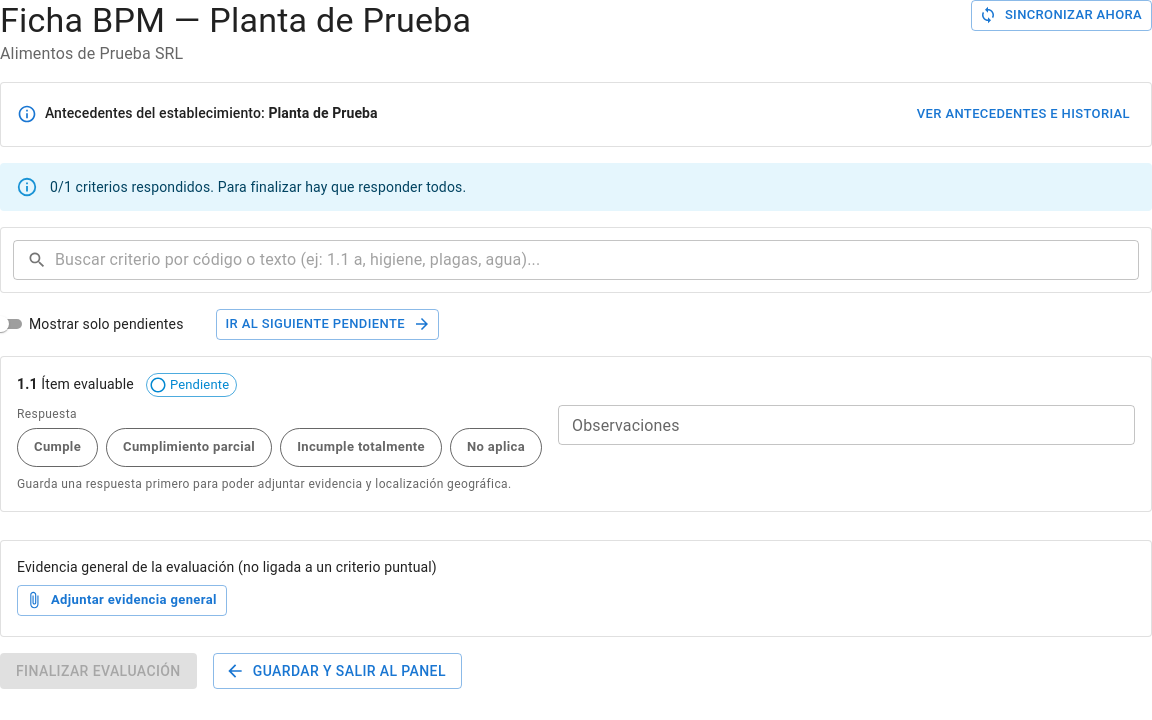
Test: EjecutarEvaluacion — en línea (comportamiento existente sin romper) › en evidencia general, muestra un solo botón principal y abre el modal integrado con opciones de archivos y GPS
Expected: the text "Evidencia general de la evaluación (no ligada a un criterio puntual)" is shown, [17, 559, 437, 575]
# Al hacer clic, abre el modal integrado
Click the button "Adjuntar evidencia general" at (122, 600), box [17, 585, 227, 616]
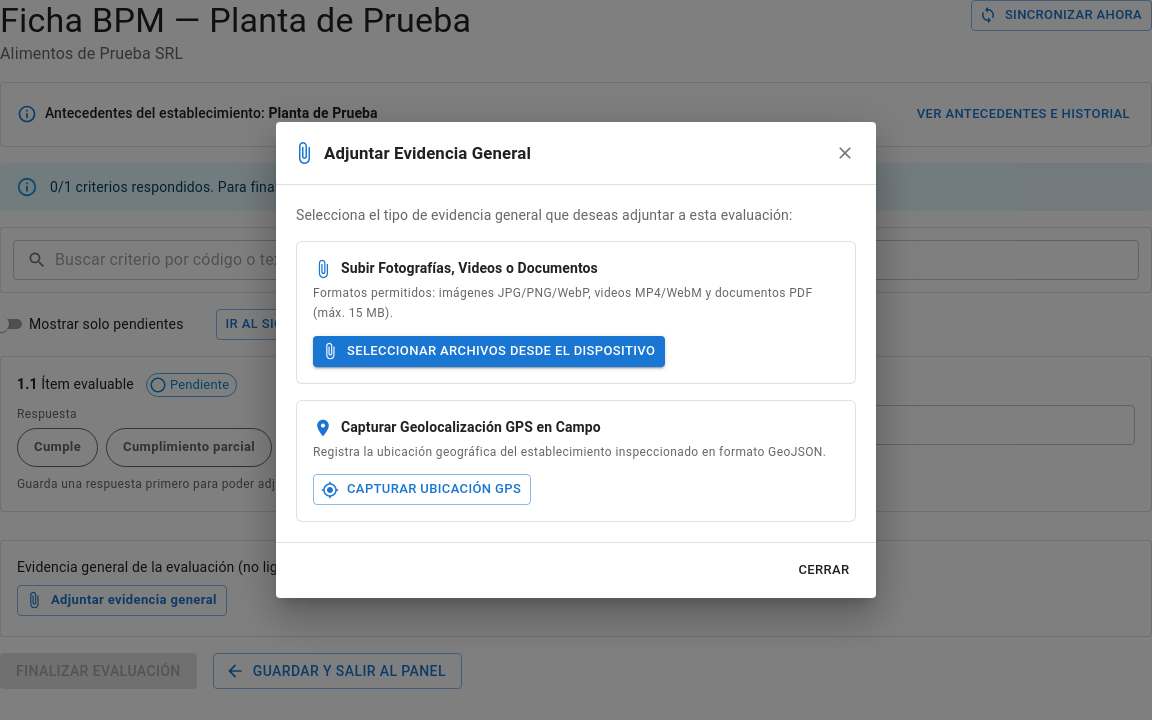
Expected: the text "Adjuntar Evidencia General" is shown, [324, 140, 531, 166]
Expected: the heading "Subir Fotografías, Videos o Documentos" is shown, [313, 259, 598, 279]
Expected: the heading "Capturar Geolocalización GPS en Campo" is shown, [313, 418, 601, 438]
